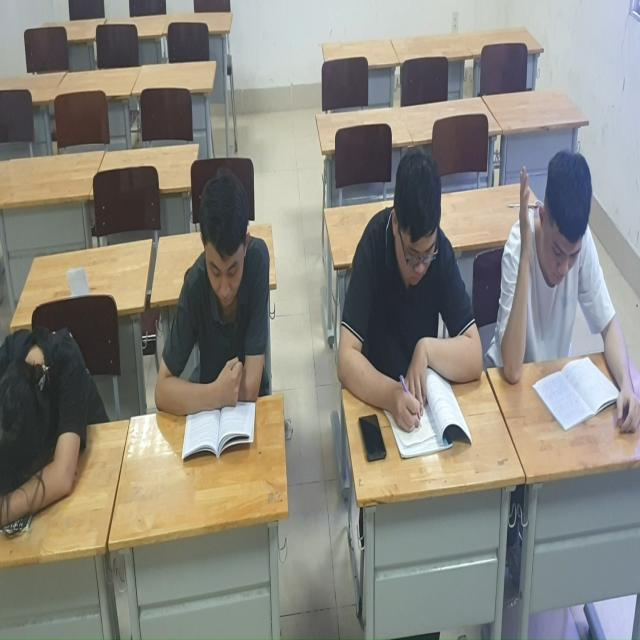raise_hand: (499, 112, 640, 451)
read: (345, 140, 491, 467), (167, 149, 275, 470)
sleep: (1, 295, 101, 524)
